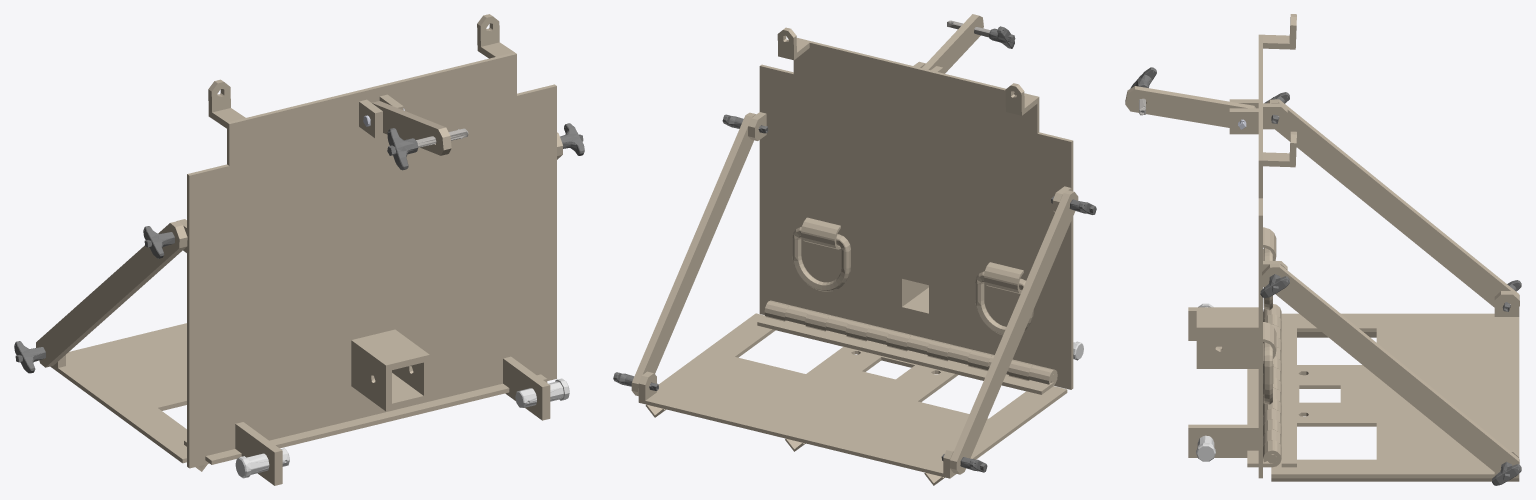
The model's file is FrontCarrier.fbx.
The picture shows the model from 3 angles, left to right: view 1: azimuth 30°, elevation 25°; view 2: azimuth 150°, elevation 25°; view 3: azimuth 270°, elevation 25°; orthographic projection. The views are drawn at different scales.
Visible parts, largest first — view 1: FrontCarrier; view 2: FrontCarrier; view 3: FrontCarrier.
Boxes of the visible parts, box(x1,y1,x2,y2) form: FrontCarrier: box(14, 14, 584, 485); FrontCarrier: box(613, 14, 1096, 485); FrontCarrier: box(1125, 14, 1521, 485).
Size of the model in its own units: 0.6921 by 0.568 by 0.6083.
